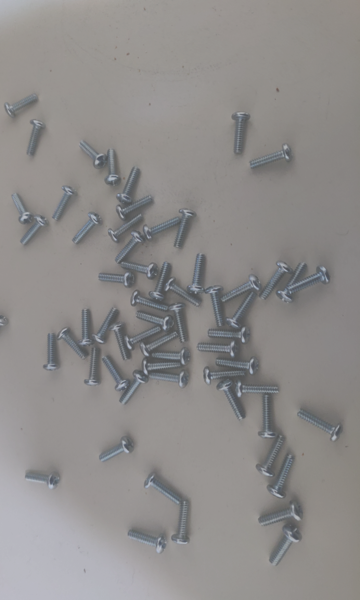shortscrew: (298, 409, 344, 443), (269, 524, 303, 567), (259, 261, 294, 301), (256, 434, 286, 478), (267, 454, 296, 499), (287, 265, 331, 294), (277, 262, 308, 303), (225, 291, 258, 329), (143, 473, 182, 505), (217, 380, 246, 422), (258, 500, 303, 527), (221, 274, 262, 303), (164, 277, 202, 308), (250, 143, 293, 170), (108, 213, 145, 243), (119, 370, 149, 406), (57, 327, 89, 360), (115, 230, 146, 264), (91, 308, 119, 345), (140, 331, 178, 358), (72, 212, 103, 245), (128, 530, 168, 555), (103, 355, 130, 392), (116, 195, 154, 221), (116, 166, 141, 205), (143, 216, 182, 241), (124, 326, 163, 351), (258, 395, 280, 439), (174, 208, 197, 250), (100, 437, 135, 464), (149, 262, 172, 302), (53, 186, 77, 223), (4, 94, 39, 119), (20, 215, 48, 246), (216, 357, 259, 377), (79, 141, 108, 170), (171, 501, 190, 545), (131, 290, 169, 312), (136, 311, 174, 333), (109, 322, 130, 361), (208, 326, 251, 345), (235, 380, 280, 398), (25, 119, 46, 157), (187, 253, 206, 295), (204, 367, 246, 386), (169, 303, 188, 344), (232, 112, 250, 155), (197, 341, 240, 359), (11, 192, 34, 225), (150, 370, 189, 389), (152, 347, 191, 366), (206, 286, 224, 327), (121, 261, 158, 280), (142, 359, 182, 376), (25, 472, 61, 490), (84, 348, 101, 386), (98, 271, 135, 288), (44, 333, 60, 371), (105, 149, 121, 186), (0, 315, 9, 348)
